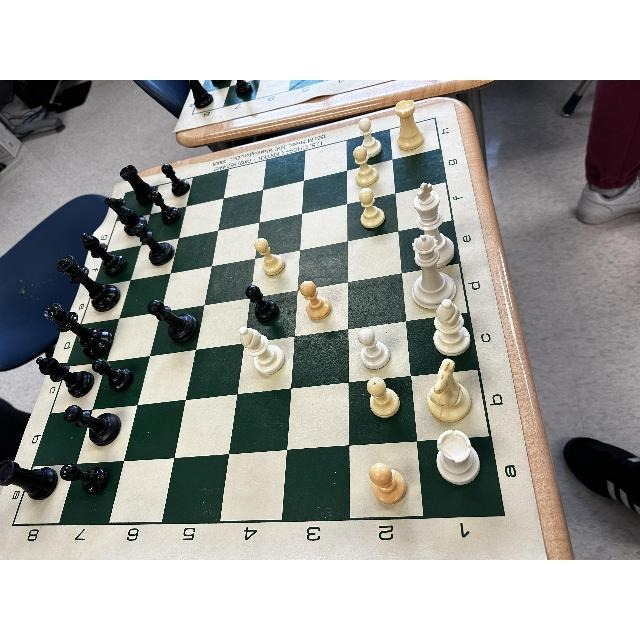black-bishop: (143, 299, 198, 345), (36, 358, 95, 400), (83, 235, 129, 279)
black-king: (52, 256, 124, 311)
black-knight: (101, 196, 147, 236)
black-pawn: (58, 404, 124, 448), (51, 458, 117, 497), (132, 222, 174, 266), (87, 358, 135, 396), (242, 284, 277, 323), (152, 189, 180, 225), (163, 164, 188, 195), (230, 81, 255, 98)
black-queen: (41, 300, 116, 360)
black-rook: (0, 459, 58, 503), (121, 166, 156, 206), (181, 81, 218, 109)
white-bishop: (237, 321, 285, 382), (432, 297, 472, 358)
white-king: (412, 180, 456, 268), (409, 232, 457, 310)
white-knight: (426, 356, 473, 425)
white-pawn: (367, 461, 408, 509), (355, 329, 391, 373), (367, 377, 403, 421), (297, 280, 332, 322), (356, 186, 386, 231), (253, 237, 284, 277), (356, 117, 382, 161), (352, 147, 378, 190)
white-rook: (431, 428, 483, 490), (394, 103, 425, 153)
